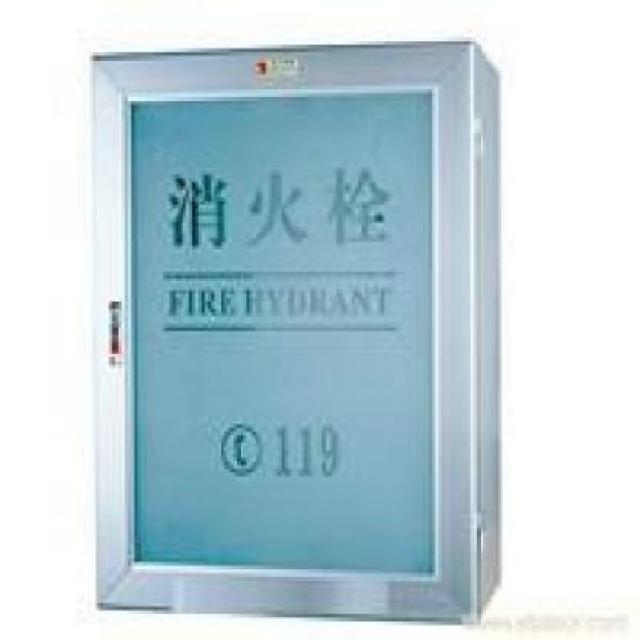firehydrant: (85, 32, 507, 634)
